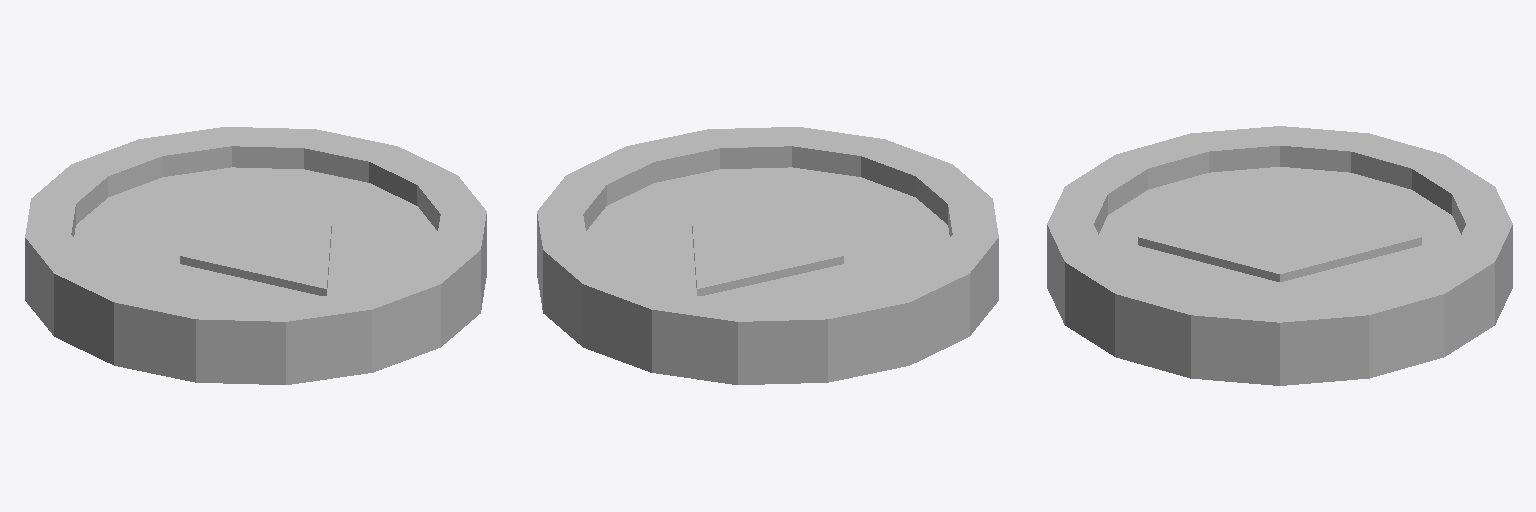
Rendered from coin-quad.obj.
3 views of the same model, side by side, from view 1: azimuth 30°, elevation 25°; view 2: azimuth 150°, elevation 25°; view 3: azimuth 270°, elevation 25° (orthographic).
Visible parts, largest first — view 1: coin_Cylinder; view 2: coin_Cylinder; view 3: coin_Cylinder.
Boxes of the visible parts, <box> form: coin_Cylinder: <box>25,127,486,384</box>; coin_Cylinder: <box>537,127,998,384</box>; coin_Cylinder: <box>1047,126,1512,385</box>.
Size of the model in its own units: 20 by 3 by 20.